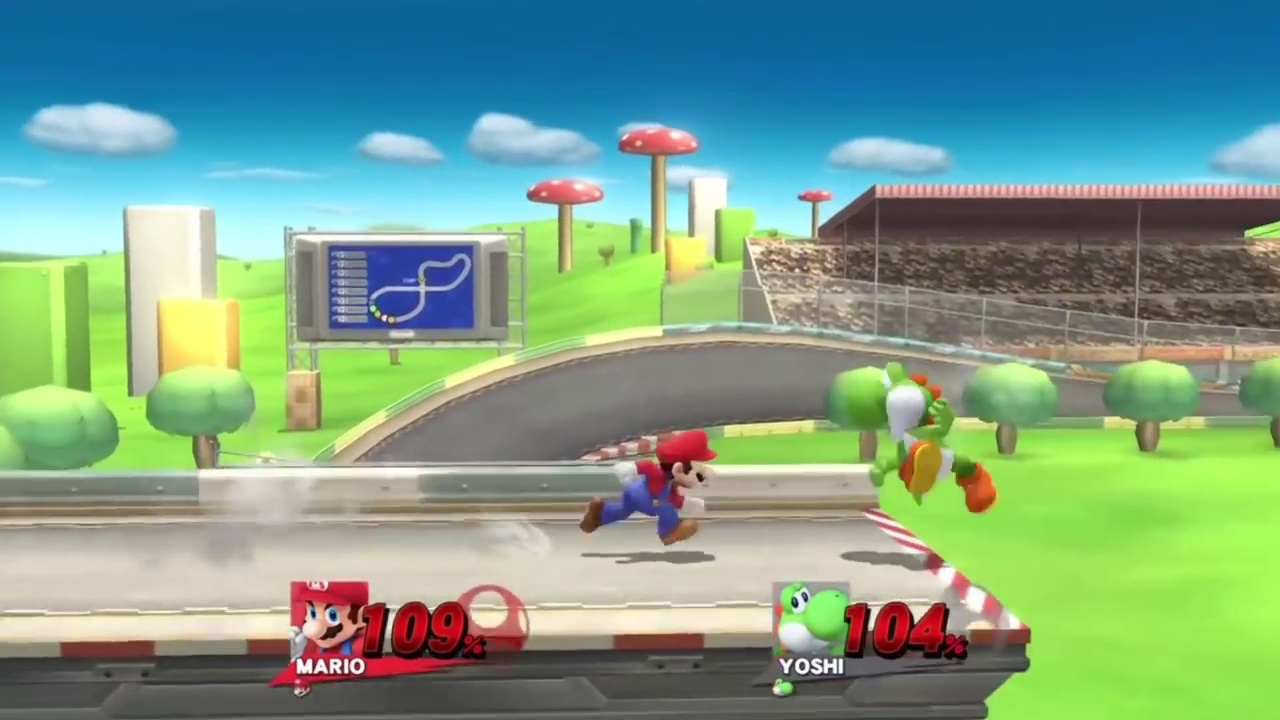Mario: (584, 431, 717, 549)
